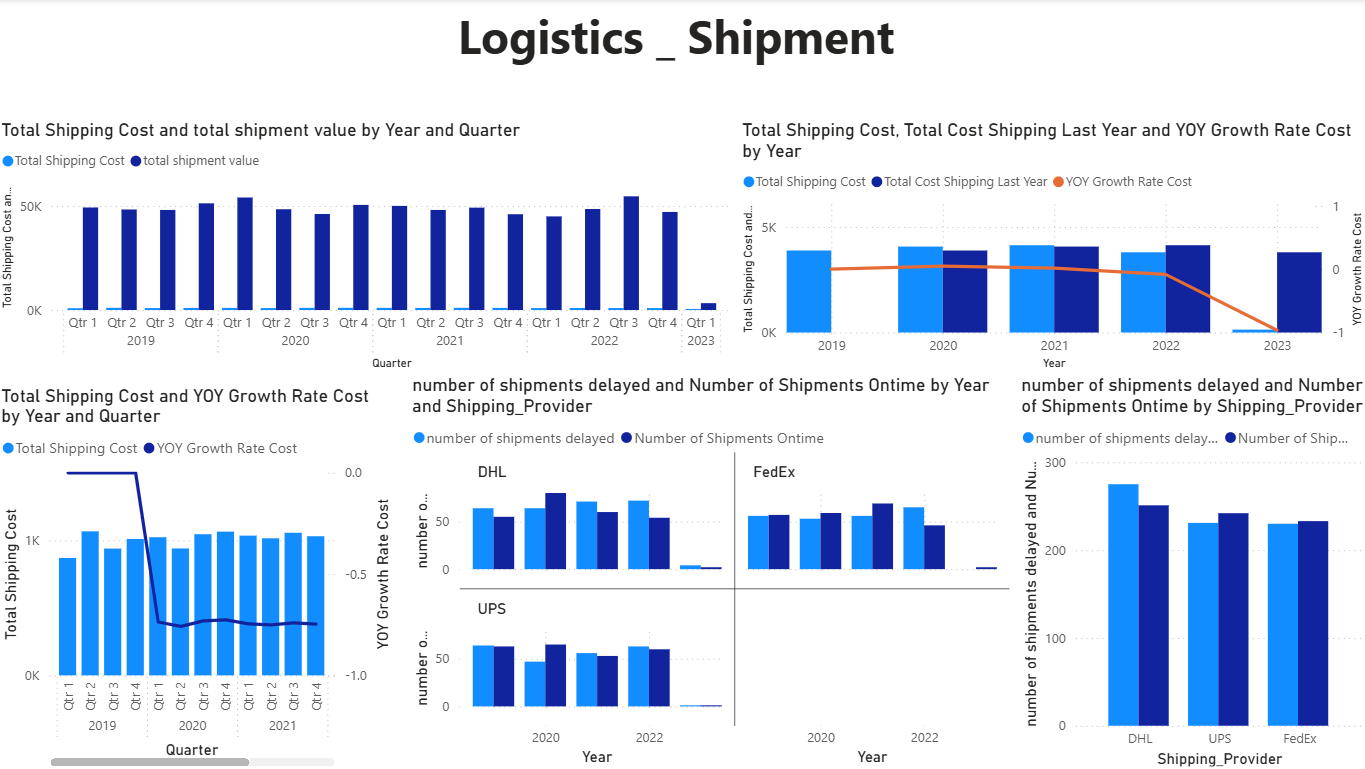

Layout of this report page (visuals, bound fields, positions):
{"tool":"powerbi","page":{"name":"Page 1","canvas":[1280,720],"ordinal":0},"visuals":[{"type":"clusteredColumnChart","fields":{"Y":["_KeyMeasures.Total Shipping Cost","_KeyMeasures.total shipment value"],"Category":["Dim_Date.Date.Variation.Date Hierarchy.Year","Dim_Date.Date.Variation.Date Hierarchy.Quarter"]},"box":[0,111.9,691.1,237.8],"z":0},{"type":"clusteredColumnChart","fields":{"Category":["Dim_Date.Date.Variation.Date Hierarchy.Year"],"Y":["_KeyMeasures.number of shipments delayed","_KeyMeasures.Number of Shipments Ontime"],"Rows":["Fact.Shipping_Provider"]},"box":[383.3,349.7,568,370.7],"z":1},{"type":"clusteredColumnChart","fields":{"Category":["Fact.Shipping_Provider"],"Y":["_KeyMeasures.number of shipments delayed","_KeyMeasures.Number of Shipments Ontime"]},"box":[951.3,349.7,328.8,370.7],"z":2},{"type":"lineClusteredColumnComboChart","fields":{"Category":["Dim_Date.Date.Variation.Date Hierarchy.Year"],"Y":["_KeyMeasures.Total Shipping Cost","_KeyMeasures.Total Cost Shipping Last Year"],"Y2":["_KeyMeasures.YOY Growth Rate Cost"]},"box":[691.1,111.9,589,237.8],"z":3},{"type":"lineClusteredColumnComboChart","fields":{"Y":["_KeyMeasures.Total Shipping Cost"],"Y2":["_KeyMeasures.YOY Growth Rate Cost"],"Category":["Dim_Date.Date.Variation.Date Hierarchy.Year","Dim_Date.Date.Variation.Date Hierarchy.Quarter","Dim_Date.Date.Variation.Date Hierarchy.Month"]},"box":[0,359.5,372.1,360.9],"z":4},{"type":"textbox","box":[0,0,1280.1,97.9],"z":5}]}

Visuals, with their boxes in screenshot pixels (x1, y1, x2, y2), scaled from the page's 1280x720 canvas onto the 1365x769 screenshot:
clusteredColumnChart - _KeyMeasures.Total Shipping Cost x _KeyMeasures.total shipment value: 0/120/737/373
clusteredColumnChart - Dim_Date.Date.Variation.Date Hierarchy.Year x _KeyMeasures.number of shipments delayed: 409/373/1014/768
clusteredColumnChart - Fact.Shipping_Provider x _KeyMeasures.number of shipments delayed: 1014/373/1364/768
lineClusteredColumnComboChart - Dim_Date.Date.Variation.Date Hierarchy.Year x _KeyMeasures.Total Shipping Cost: 737/120/1364/373
lineClusteredColumnComboChart - _KeyMeasures.Total Shipping Cost x _KeyMeasures.YOY Growth Rate Cost: 0/384/397/768
textbox: 0/0/1364/105
